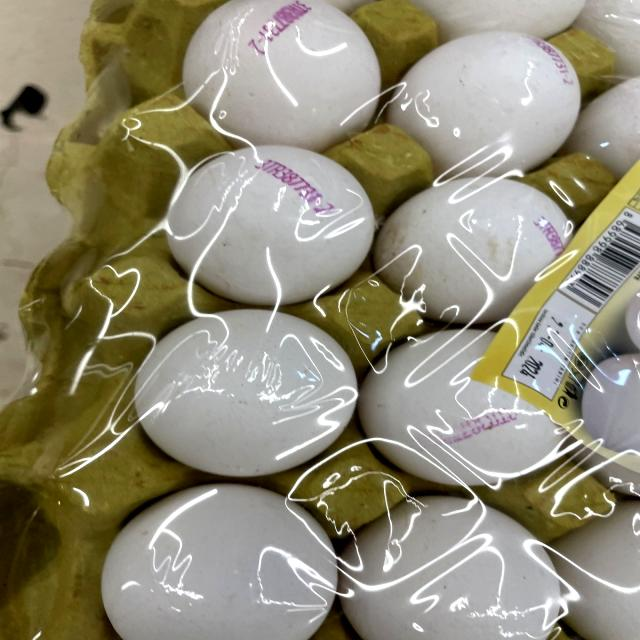egg: (147, 126, 389, 306), (116, 301, 363, 476), (81, 479, 344, 640), (177, 0, 387, 153)
